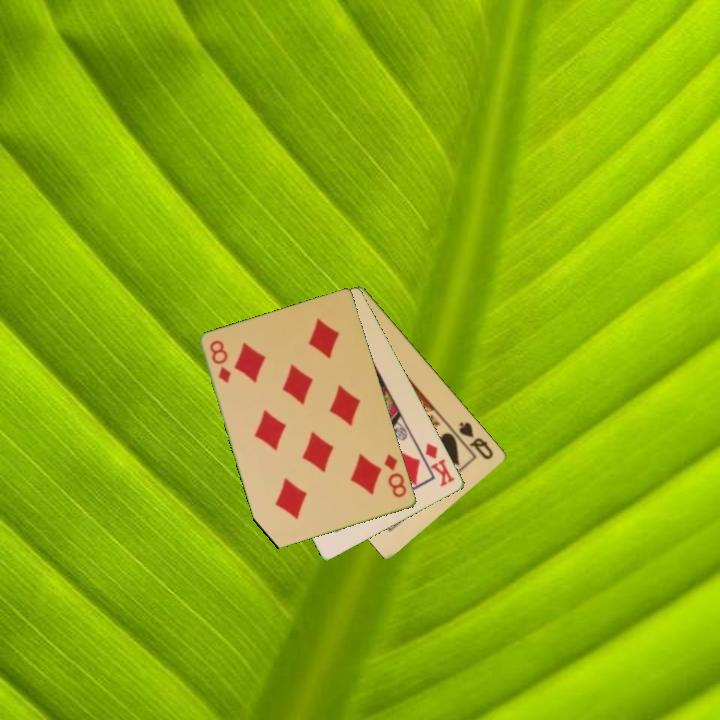8d: (381, 451, 410, 501), (206, 337, 234, 386)
Kd: (422, 439, 458, 490)
Qs: (456, 418, 497, 463)
